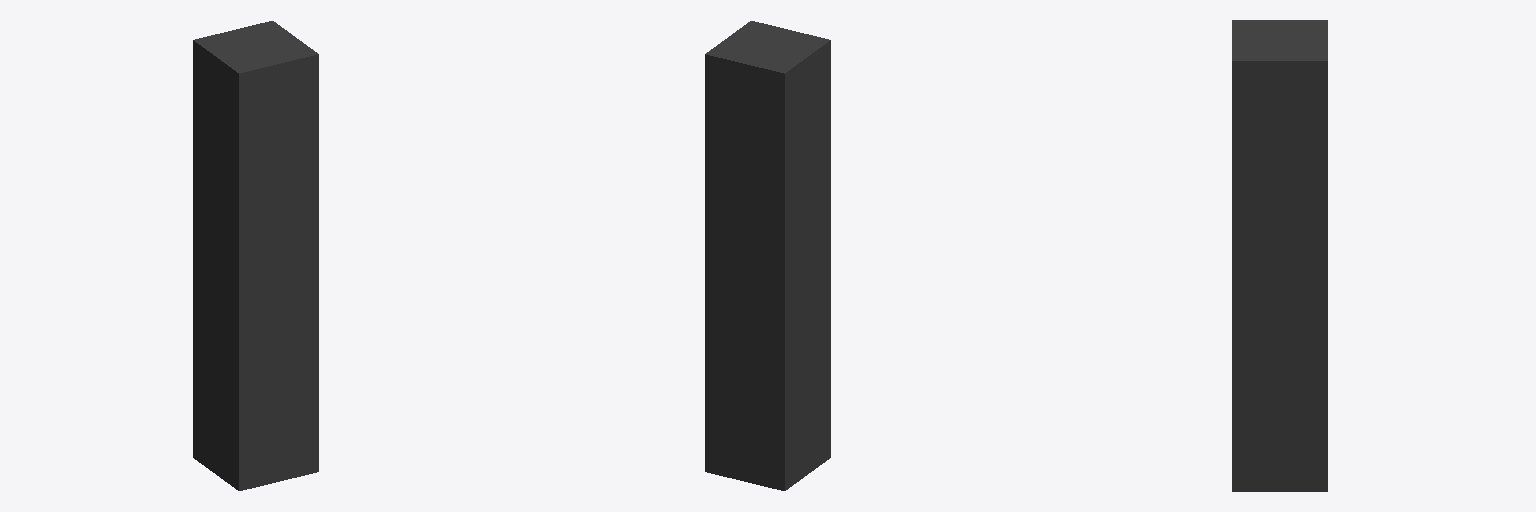
URDF robot description (box):
<?xml version='1.0' encoding='UTF-8'?>
<robot name="box">
  <link name="base_link">
    <inertial>
      <origin xyz="0.0 0.0 0.0" rpy="0.0 -0.0 0.0"/>
      <mass value="1.0"/>
      <inertia ixx="1.0" ixy="0.0" ixz="0.0" iyy="1.0" iyz="0.0" izz="1.0"/>
    </inertial>
    <visual name="base_link_visual">
      <geometry>
        <box size="0.6 0.6 3.0"/>
      </geometry>
      <material name="base_link_color">
        <color rgba="0.3 0.3 0.3 1"/>
      </material>
      <origin xyz="0 0 0" rpy="0 0 0"/>
    </visual>
    <collision name="base_link_collision">
      <geometry>
        <box size="0.6 0.6 3.0"/>
      </geometry>
      <origin xyz="0 0 0" rpy="0 0 0"/>
    </collision>
  </link>
</robot>

--- Render facts (derived) ---
Views: 3 orthographic renders of the robot side by side, from view 1: azimuth 30°, elevation 25°; view 2: azimuth 150°, elevation 25°; view 3: azimuth 270°, elevation 25°.
Model box with 1 links and 0 joints (none), rooted at base_link, posed all joints at 0.
Links seen in each view (by area): view 1: base_link; view 2: base_link; view 3: base_link.
Boxes of the visible links, x1=… form: base_link: x1=193, y1=21, x2=318, y2=490; base_link: x1=705, y1=21, x2=830, y2=490; base_link: x1=1232, y1=20, x2=1327, y2=491.
Bounding box of the posed robot: 0.6 × 0.6 × 3 m (x, y, z).
Geometry: primitives only (box / cylinder / sphere), no mesh files.